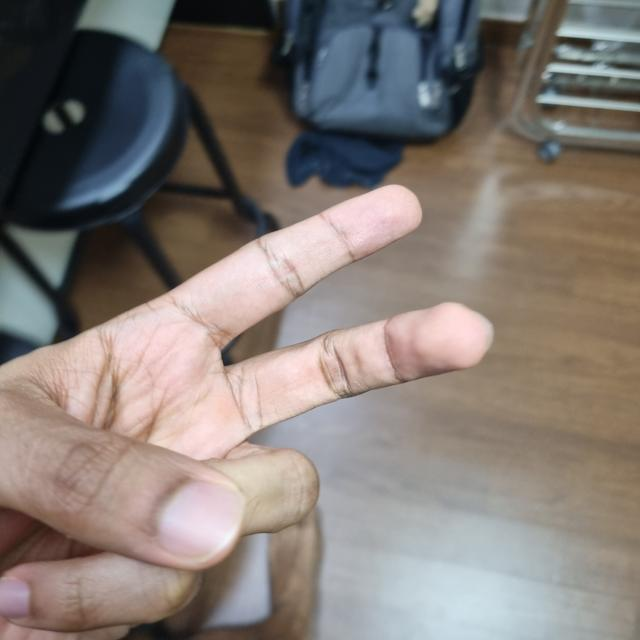Scissors: (0, 192, 486, 637)
